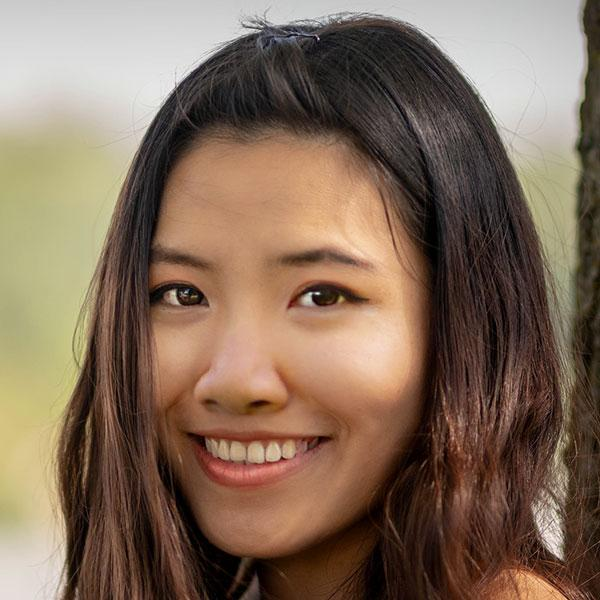Eyes: (276, 268, 368, 325), (138, 267, 217, 322)
